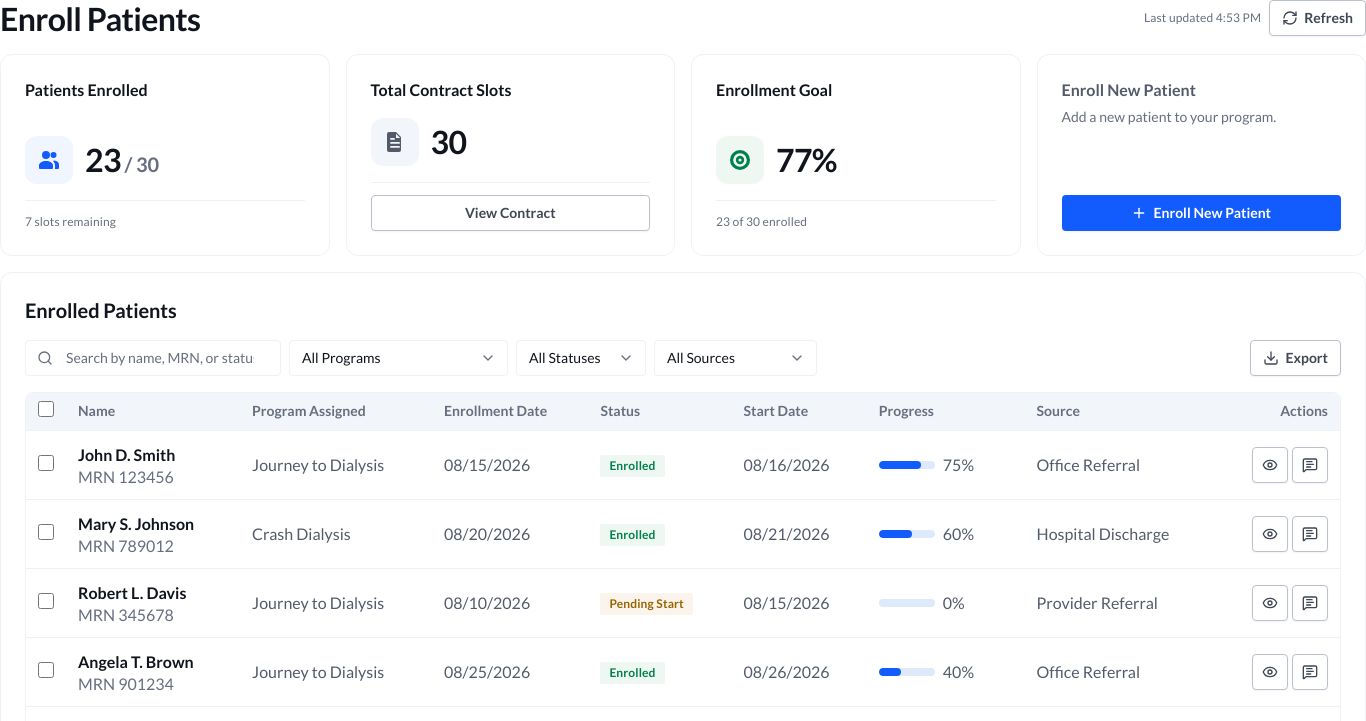
Test case: enrolling a patient › adds them to the list, the counts and the seats
Click the button "Enroll New Patient".
click(1201, 213)  # box [1062, 195, 1341, 231]
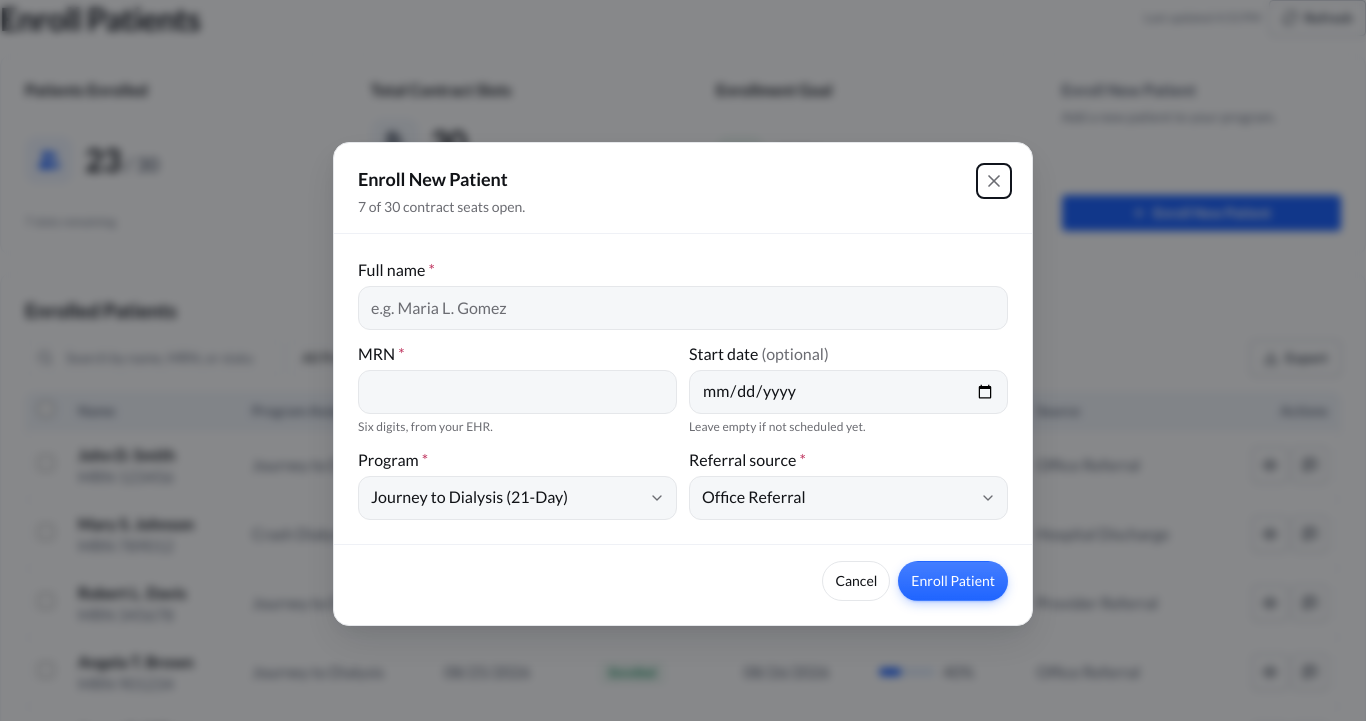
Type "Maria L. Gomez" into the field labelled "Full name *".
click(683, 308); type("Maria L. Gomez")  # box [358, 286, 1008, 330]
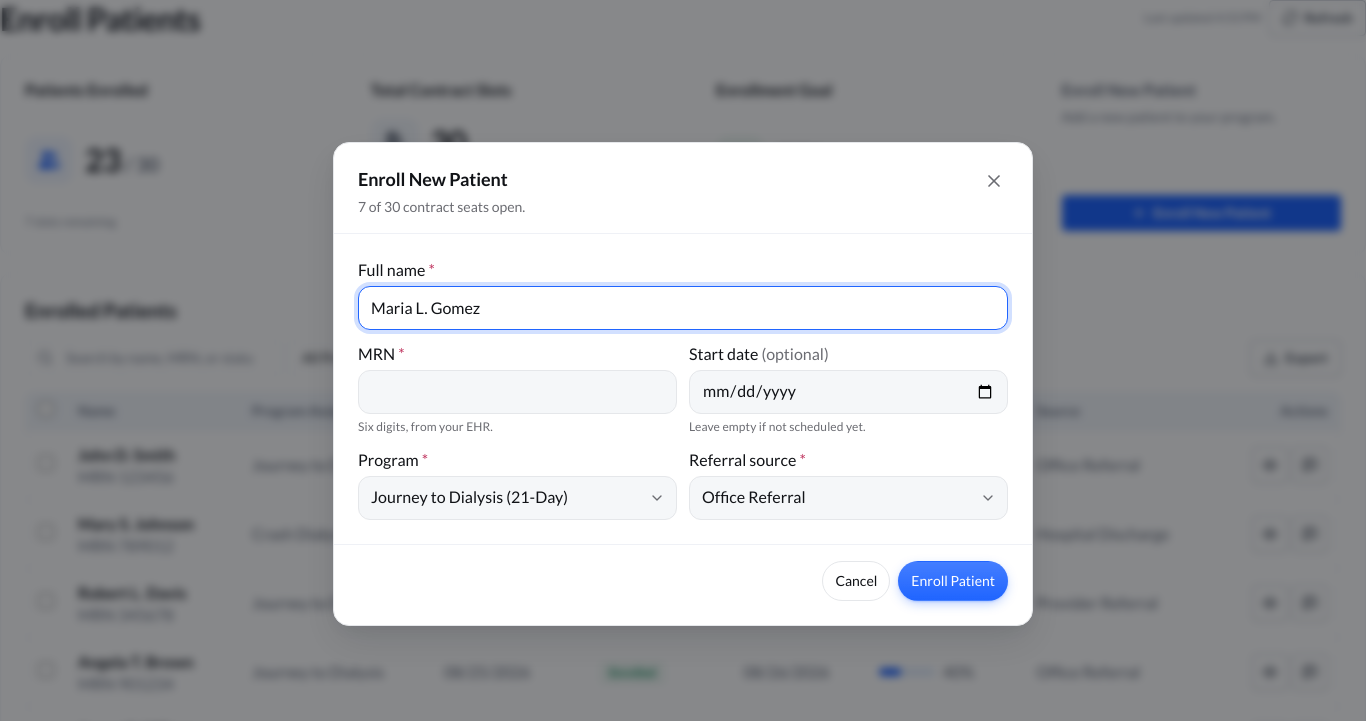
Type "700001" into the field labelled "MRN *".
click(518, 392); type("700001")  # box [358, 370, 677, 414]
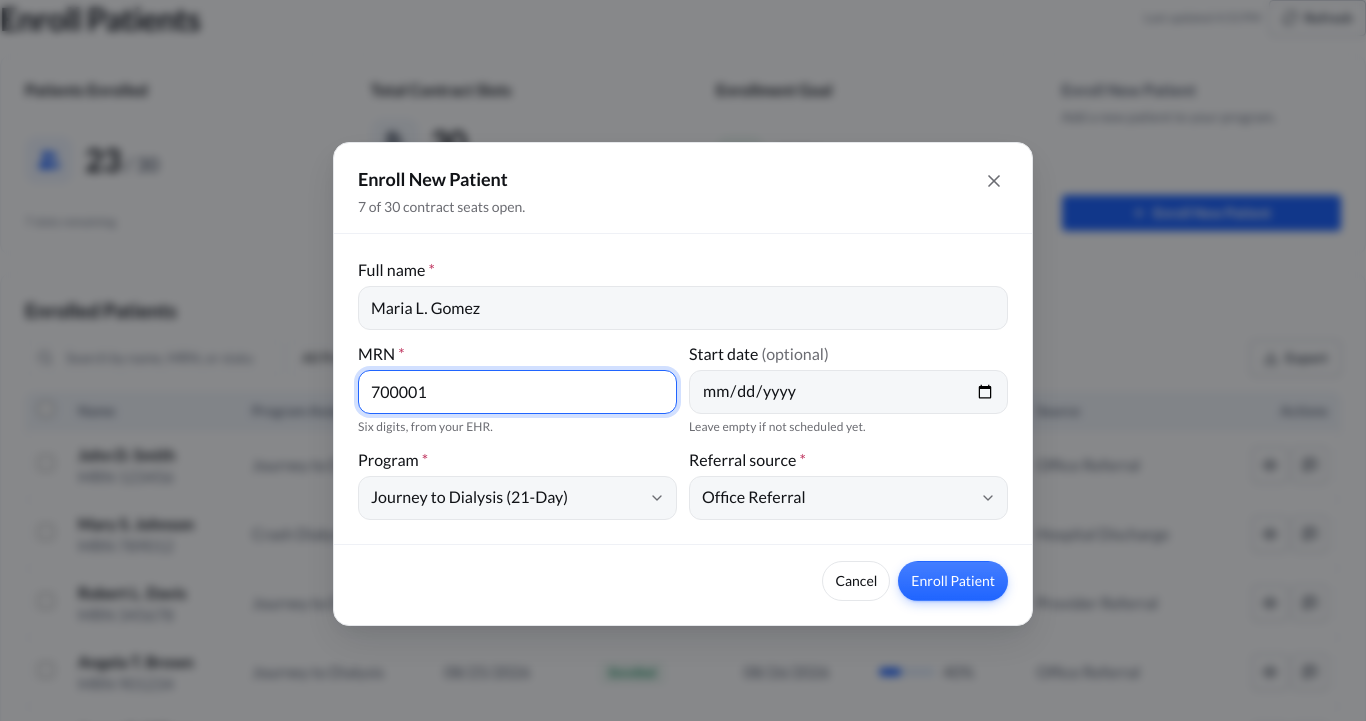
Click the button "Enroll Patient".
click(953, 581)  # box [898, 561, 1008, 601]
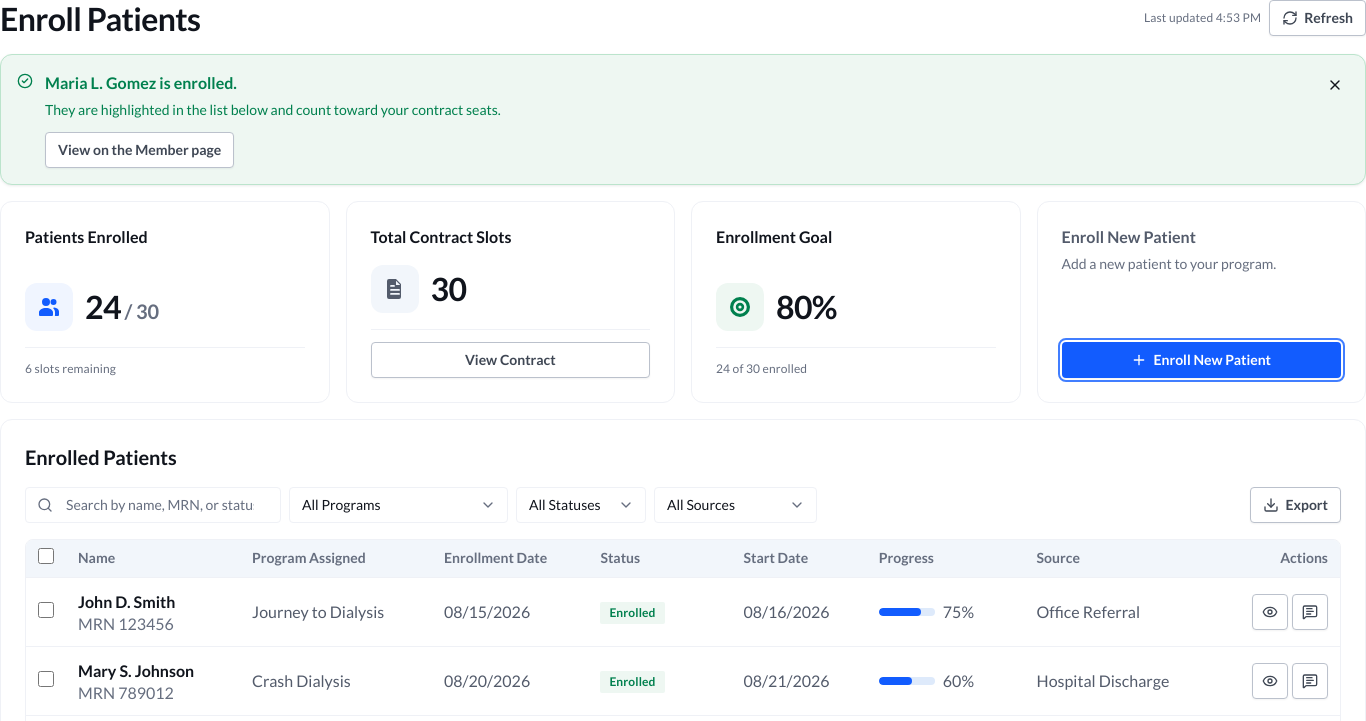
Check: the text "Maria L. Gomez is enrolled." is shown, box [45, 73, 237, 92]
Check: the dialog is gone
Check: the text "24 of 30 enrolled" is shown, box [716, 361, 807, 376]
